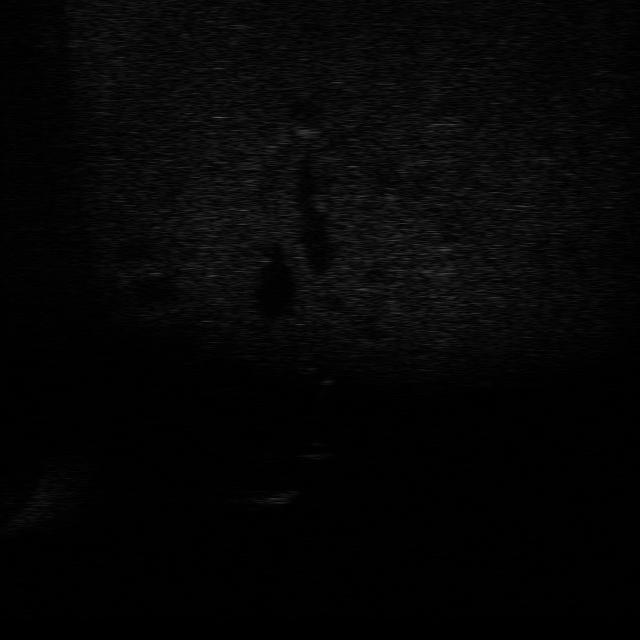ball: (295, 438, 337, 459)
human body: (285, 338, 333, 409)
square cage: (230, 479, 301, 510)
